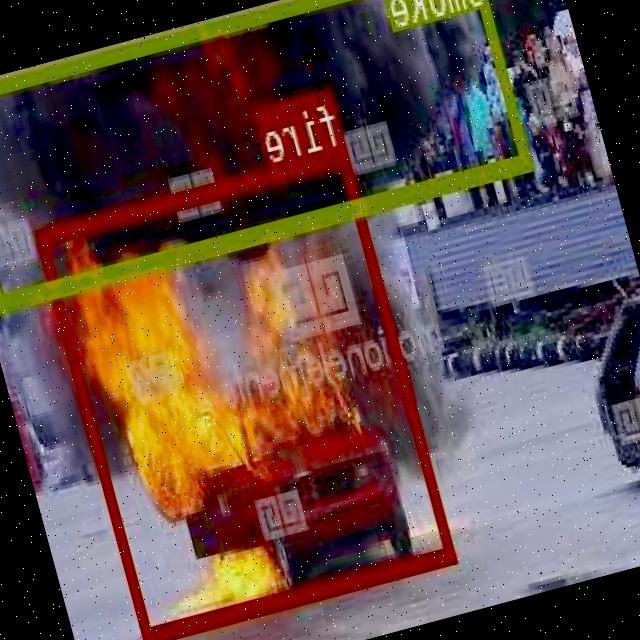fire: (34, 141, 457, 640)
smoke: (0, 0, 531, 303)
